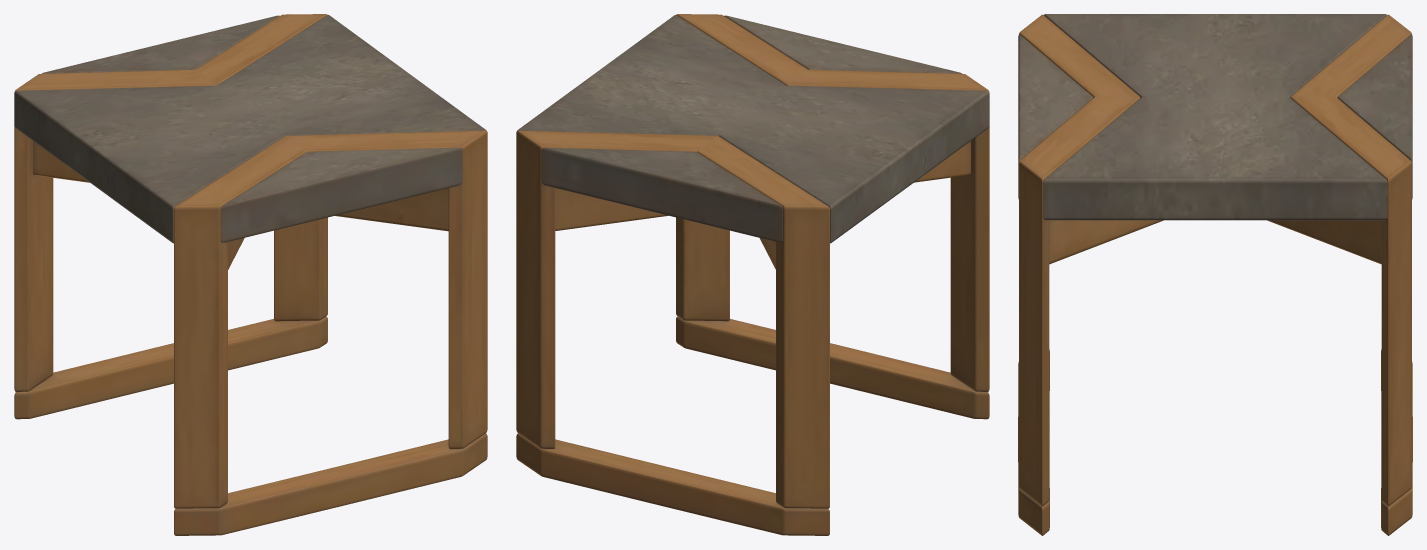
The model's file is ph-modern-coffee-table-01.glb.
3 renders of one model, left to right at view 1: azimuth 30°, elevation 25°; view 2: azimuth 150°, elevation 25°; view 3: azimuth 270°, elevation 25°, orthographic. The views are drawn at different scales.
Parts seen in each view (by area): view 1: modern_coffee_table_01; view 2: modern_coffee_table_01; view 3: modern_coffee_table_01.
Boxes of the visible parts, <box> form: modern_coffee_table_01: <box>14,14,487,535</box>; modern_coffee_table_01: <box>516,14,989,535</box>; modern_coffee_table_01: <box>1018,14,1412,535</box>.
Size of the model in its own units: 1 by 1 by 1.
1 material, 1 textured.
